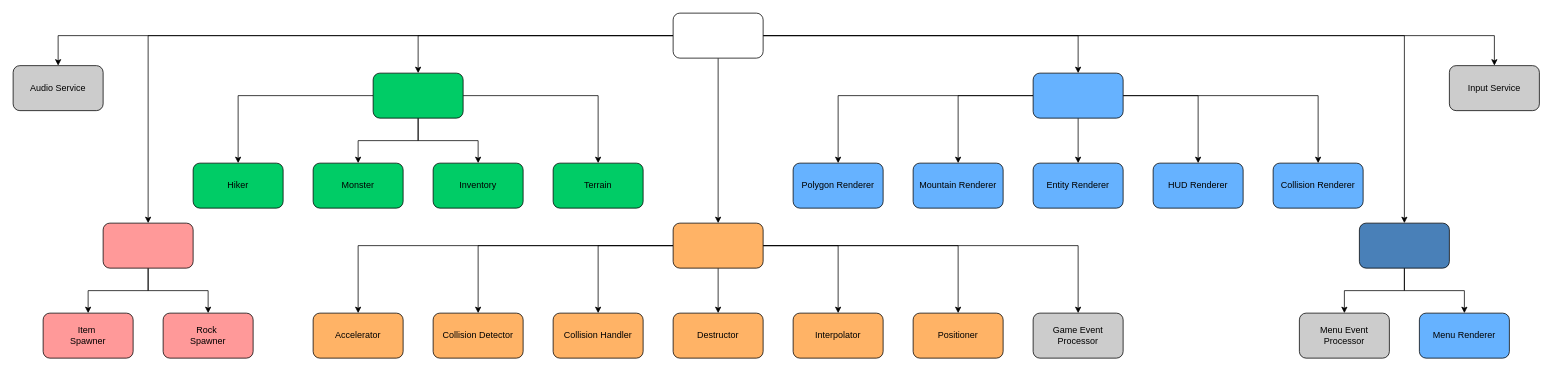
Some shapes in this 1553 by 371 pixel diagram are drawn without their labels. Here are the shapes that lost their labels. From the top down, the centre of each, then its label:
[717,35]: Game
[417,95]: World
[1077,95]: Renderer
[147,245]: Spawner
[717,245]: Physics Engine
[1404,245]: Menu Engine
